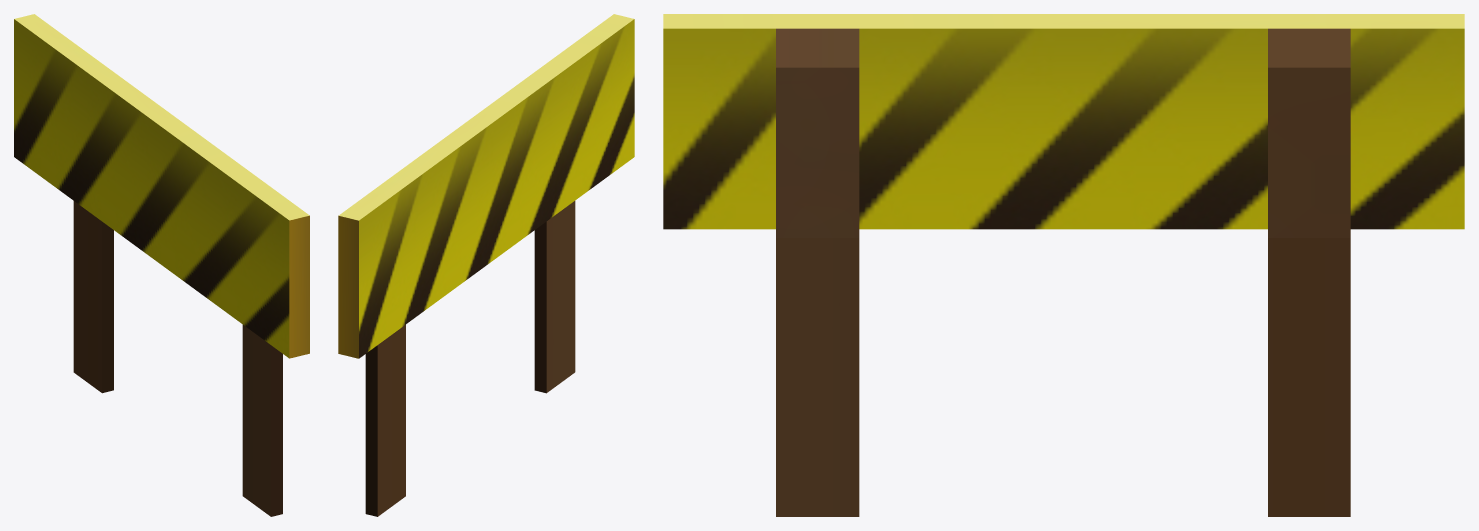
Rendered from Barricade.glb.
3 views of the same model, side by side, from view 1: azimuth 30°, elevation 25°; view 2: azimuth 150°, elevation 25°; view 3: azimuth 270°, elevation 25° (orthographic). The views are drawn at different scales.
Visible parts, largest first — view 1: RoadBlocker for FTUE; view 2: RoadBlocker for FTUE; view 3: RoadBlocker for FTUE.
Part boxes in pixels (x1,y1,x2,y2): RoadBlocker for FTUE: (14, 14, 309, 516); RoadBlocker for FTUE: (338, 14, 634, 516); RoadBlocker for FTUE: (663, 14, 1464, 516).
Bounding box in the file's own units: 0.1357 × 1.32 × 2.
Materials: 1 (1 with a texture image).
